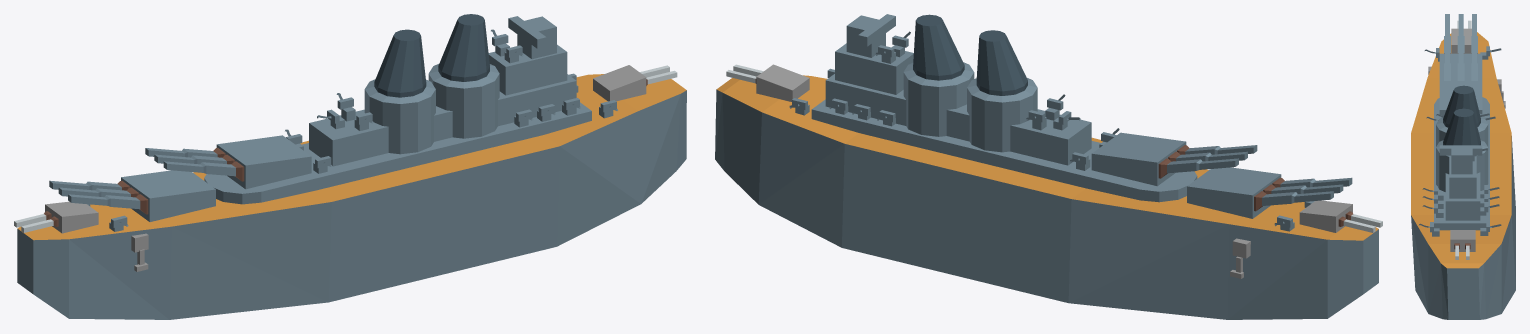
File: Simple Battleship.glb
3 renders of one model, left to right at view 1: azimuth 30°, elevation 25°; view 2: azimuth 150°, elevation 25°; view 3: azimuth 270°, elevation 25°, orthographic. The views are drawn at different scales.
Parts seen in each view (by area): view 1: Node; view 2: Node; view 3: Node.
Part boxes in pixels (x1,y1,x2,y2): Node: (14, 14, 686, 319); Node: (715, 14, 1382, 319); Node: (1411, 14, 1515, 319).
Size of the model in its own units: 2.88 by 0.9039 by 0.5421.
